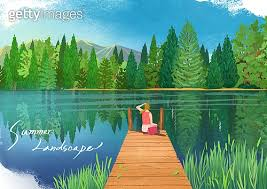forest: (6, 35, 266, 89)
lake: (6, 91, 263, 189)
mountain: (5, 34, 264, 86)
